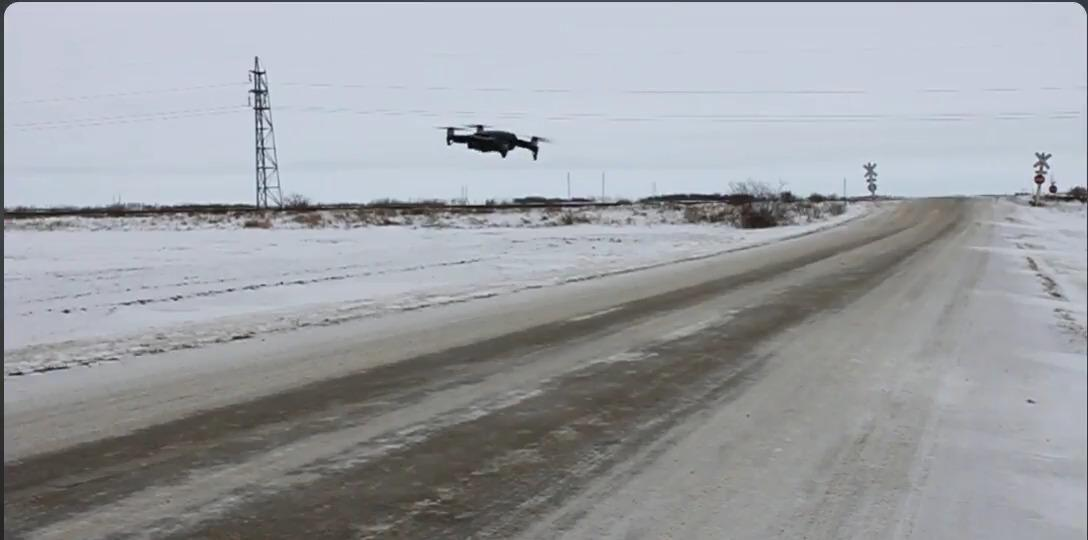dr: (426, 88, 556, 188)
